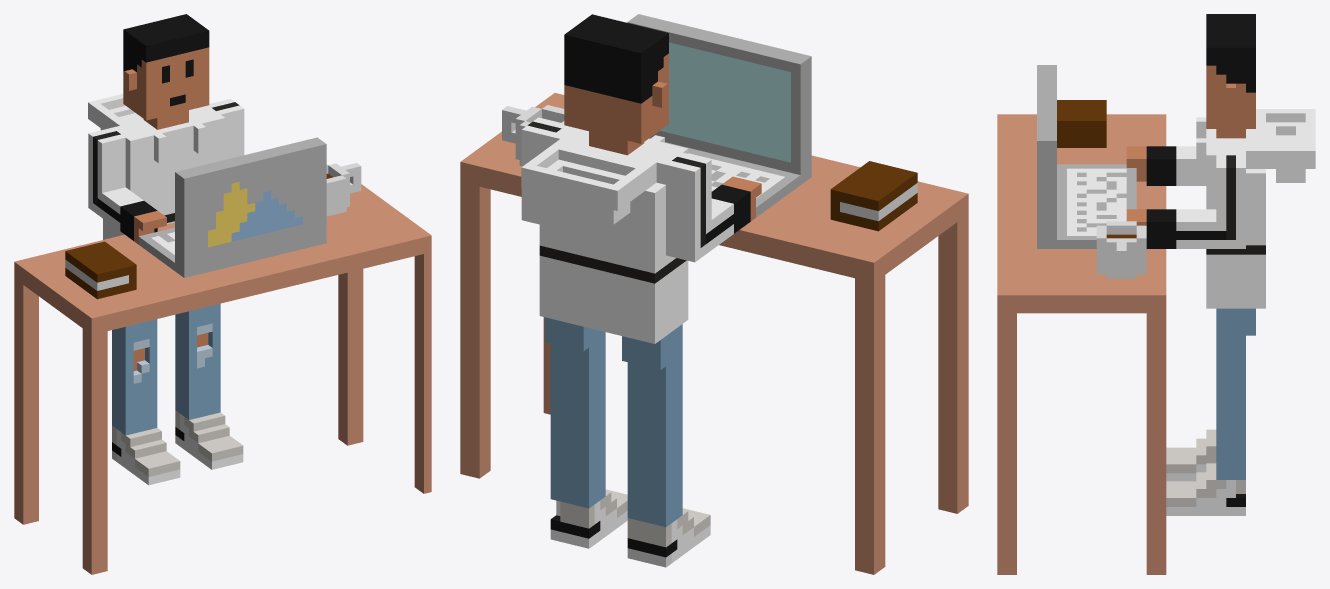
File: aaron.glb
3 views of the same model, side by side, from view 1: azimuth 30°, elevation 25°; view 2: azimuth 150°, elevation 25°; view 3: azimuth 270°, elevation 25° (orthographic). The views are drawn at different scales.
Parts seen in each view (by area): view 1: aaron; view 2: aaron; view 3: aaron.
Boxes of the visible parts, x1,y1,x2,y2 form: aaron: (14,14,431,574); aaron: (460,14,968,574); aaron: (997,14,1315,574).
Size of the model in its own units: 4.3 by 5.1 by 3.2.
1 material, 1 textured.
